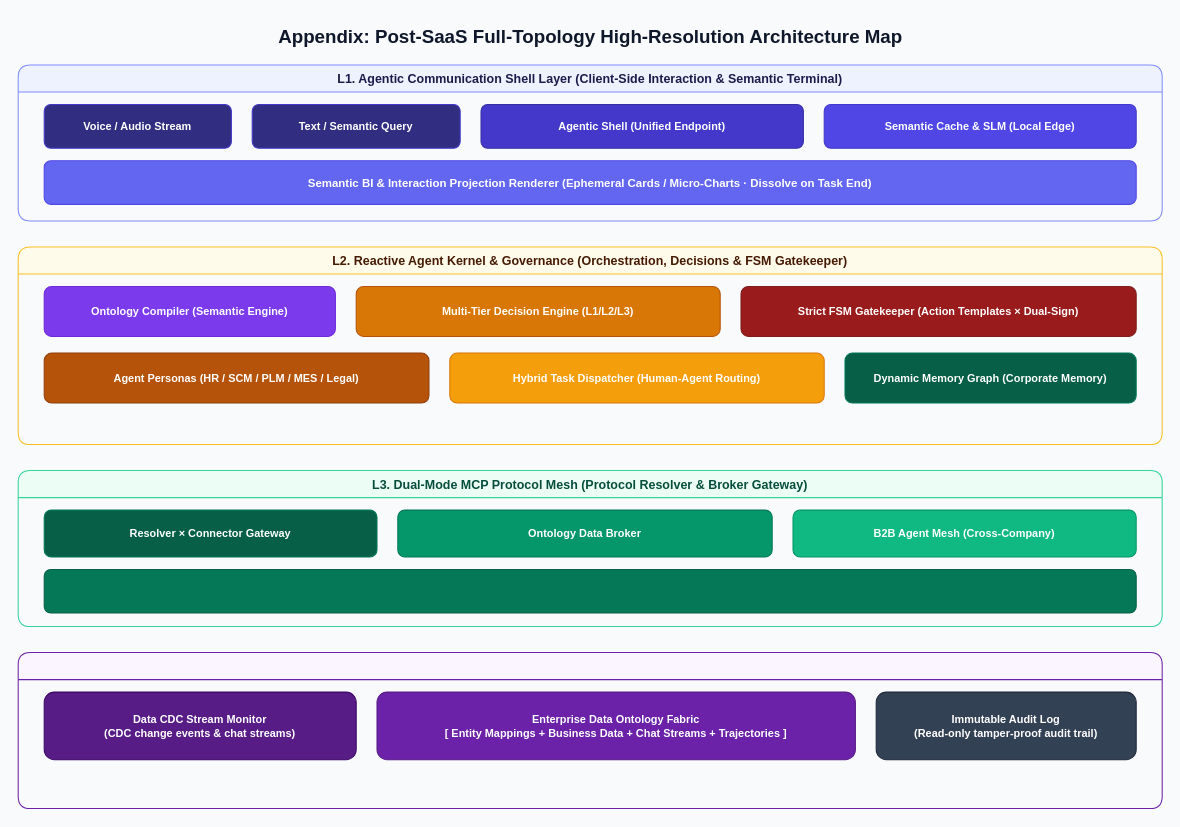
The diagram is 1180 pixels wide and 827 high, and some of its shapes have lost their labels. The shapes that lost their labels are listed below. From the top down, each one's box as (x1, y1, x2, y2) in pixels, then its label:
(43, 568, 1136, 613): Full Value-Chain MCP Servers (SCM / MES / PLM / ERP / Legal MCP Clusters)
(17, 652, 1162, 809): L4. Unified Enterprise Data Ontology Fabric (Physical Enterprise Data Mesh)
